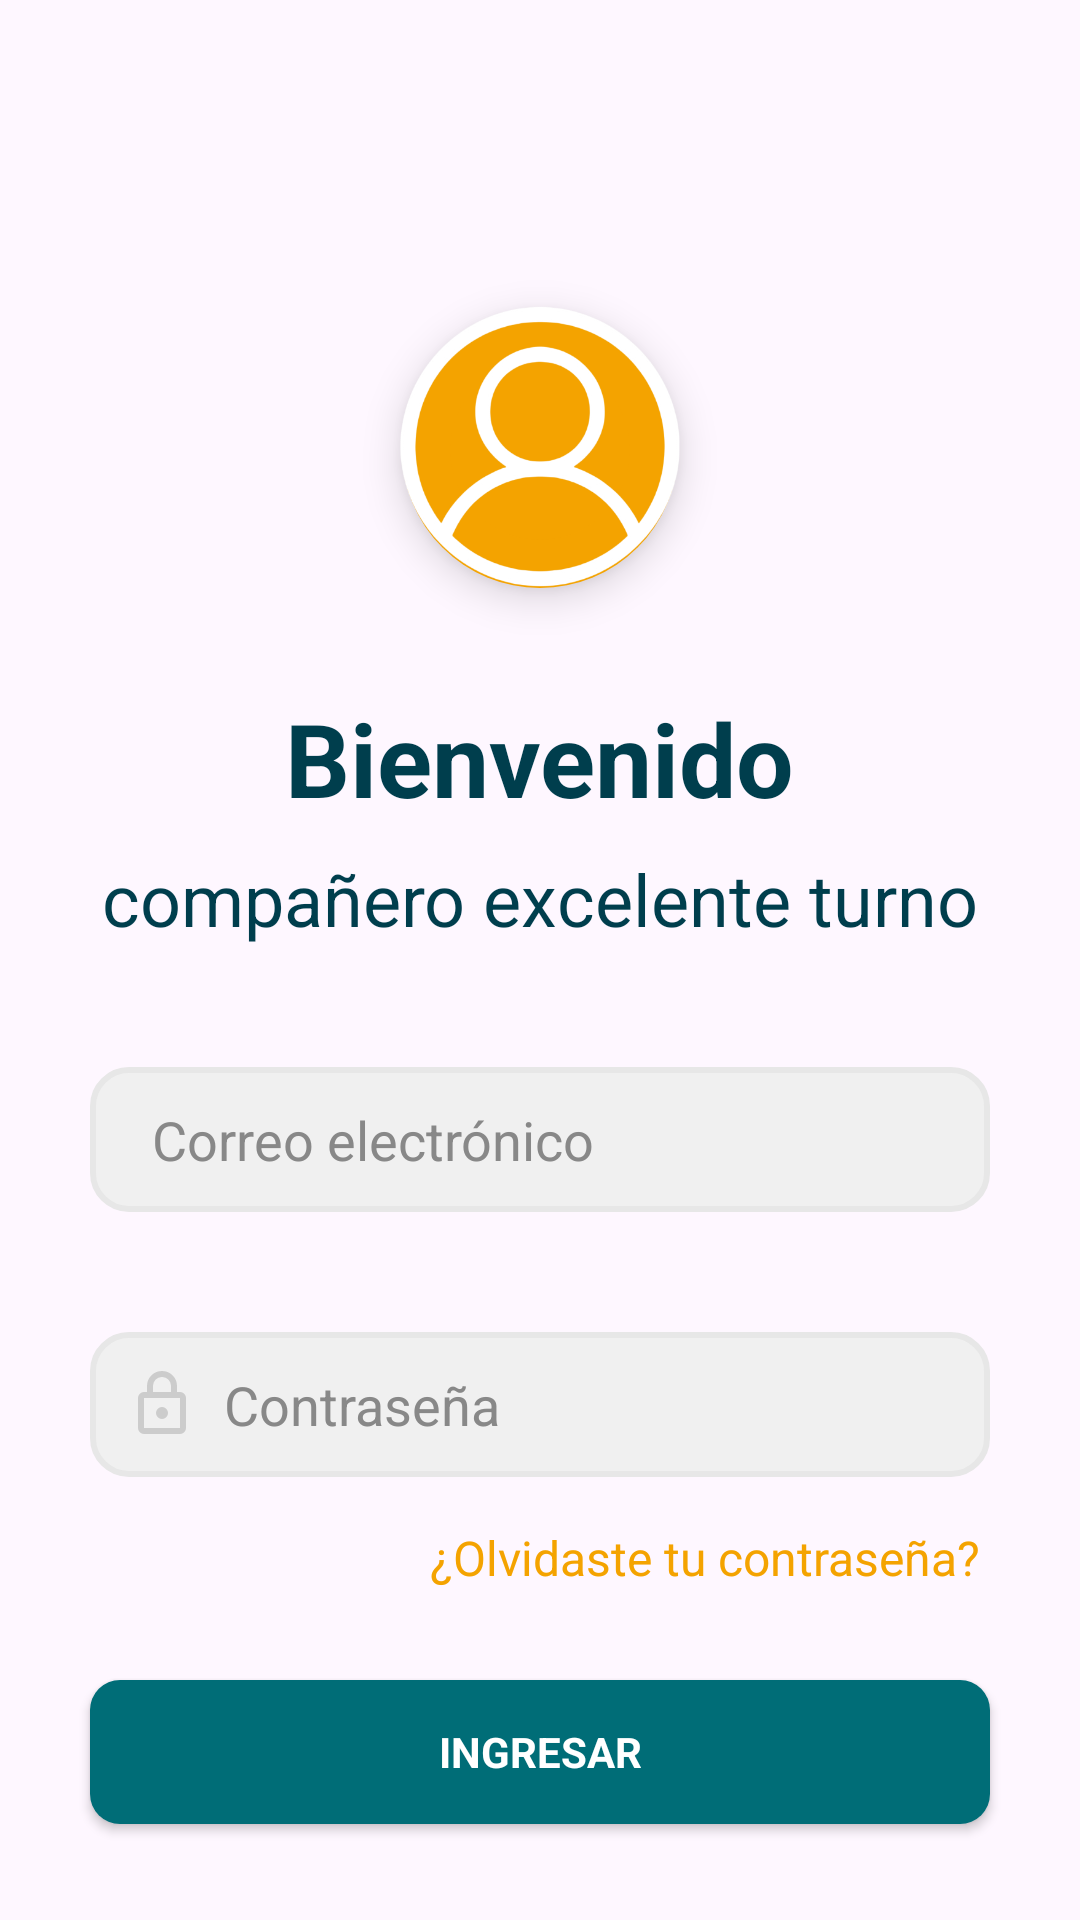

Screen size 1080 × 1920. Icon name, then its center in pixels as point (x, y):
user definitive: point (539, 457)
